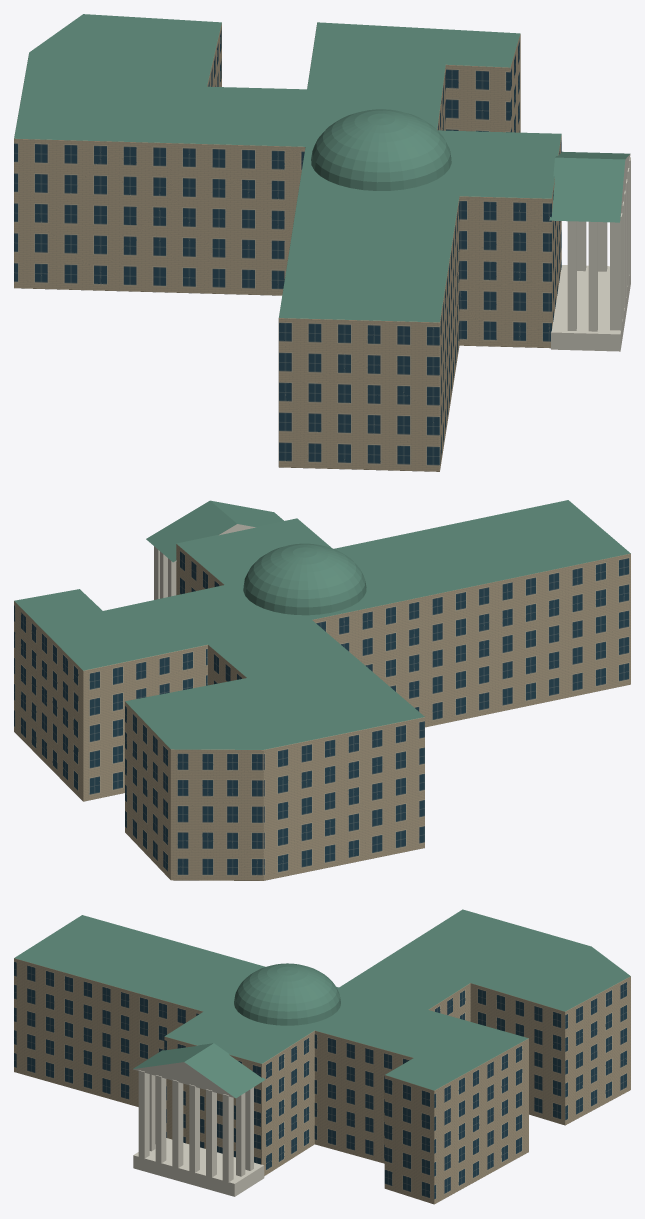
File: fragments.glb
The picture shows the model from 3 angles, top to bottom: view 1: azimuth 30°, elevation 25°; view 2: azimuth 150°, elevation 25°; view 3: azimuth 270°, elevation 25°; orthographic projection. The views are drawn at different scales.
Visible parts, largest first — view 1: SM_MainV2_Fragment_071, SM_MainV2_Fragment_062, SM_MainV2_Fragment_058, SM_MainV2_Fragment_001, SM_MainV2_Fragment_025, SM_MainV2_Fragment_019, SM_MainV2_Fragment_045, SM_MainV2_Fragment_006, SM_MainV2_Fragment_029, SM_MainV2_Fragment_066, SM_MainV2_Fragment_023, SM_MainV2_Fragment_047 (+37 smaller); view 2: SM_MainV2_Fragment_004, SM_MainV2_Fragment_013, SM_MainV2_Fragment_052, SM_MainV2_Fragment_054, SM_MainV2_Fragment_002, SM_MainV2_Fragment_063, SM_MainV2_Fragment_022, SM_MainV2_Fragment_048, SM_MainV2_Fragment_042, SM_MainV2_Fragment_019, SM_MainV2_Fragment_055, SM_MainV2_Fragment_029 (+36 smaller); view 3: SM_MainV2_Fragment_072, SM_MainV2_Fragment_016, SM_MainV2_Fragment_018, SM_MainV2_Fragment_011, SM_MainV2_Fragment_067, SM_MainV2_Fragment_001, SM_MainV2_Fragment_009, SM_MainV2_Fragment_026, SM_MainV2_Fragment_033, SM_MainV2_Fragment_051, SM_MainV2_Fragment_049, SM_MainV2_Fragment_003 (+39 smaller).
Part boxes in pixels (x1,y1,x2,y2): SM_MainV2_Fragment_071: (294, 363, 439, 469); SM_MainV2_Fragment_062: (497, 173, 620, 286); SM_MainV2_Fragment_058: (43, 153, 169, 273); SM_MainV2_Fragment_001: (361, 284, 444, 417); SM_MainV2_Fragment_025: (169, 104, 296, 183); SM_MainV2_Fragment_019: (14, 109, 105, 228); SM_MainV2_Fragment_045: (278, 283, 371, 385); SM_MainV2_Fragment_006: (88, 81, 207, 177); SM_MainV2_Fragment_029: (298, 115, 411, 202); SM_MainV2_Fragment_066: (167, 173, 291, 248); SM_MainV2_Fragment_023: (99, 199, 211, 293); SM_MainV2_Fragment_047: (391, 162, 511, 285); SM_MainV2_Fragment_004: (414, 618, 531, 724); SM_MainV2_Fragment_013: (530, 599, 630, 704); SM_MainV2_Fragment_052: (396, 555, 511, 656); SM_MainV2_Fragment_054: (69, 642, 173, 750); SM_MainV2_Fragment_002: (143, 735, 232, 846); SM_MainV2_Fragment_063: (216, 771, 311, 868); SM_MainV2_Fragment_022: (503, 540, 608, 622); SM_MainV2_Fragment_048: (224, 710, 342, 783); SM_MainV2_Fragment_042: (295, 698, 393, 809); SM_MainV2_Fragment_019: (370, 687, 424, 796); SM_MainV2_Fragment_055: (236, 562, 331, 632); SM_MainV2_Fragment_029: (303, 546, 403, 627); SM_MainV2_Fragment_072: (52, 953, 143, 1051); SM_MainV2_Fragment_016: (180, 1112, 282, 1196); SM_MainV2_Fragment_018: (529, 1043, 609, 1125); SM_MainV2_Fragment_011: (108, 968, 180, 1062); SM_MainV2_Fragment_067: (274, 1031, 356, 1133); SM_MainV2_Fragment_001: (14, 940, 100, 1030); SM_MainV2_Fragment_009: (309, 1020, 395, 1119); SM_MainV2_Fragment_026: (384, 1056, 463, 1121); SM_MainV2_Fragment_033: (240, 968, 322, 1036); SM_MainV2_Fragment_051: (384, 1131, 460, 1204); SM_MainV2_Fragment_049: (496, 979, 568, 1060); SM_MainV2_Fragment_003: (443, 1047, 515, 1120).
Bounding box in the file's own units: 1.95 × 0.7334 × 2.8.
4 materials, 2 textured.
